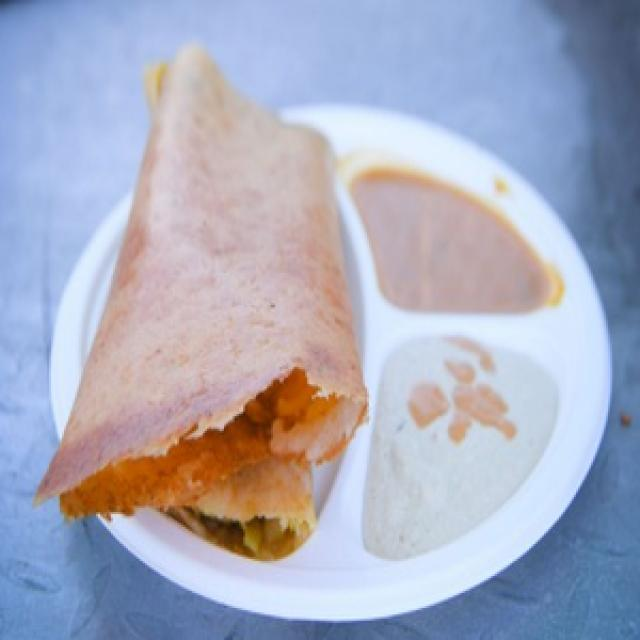dosa: (21, 33, 382, 569)
